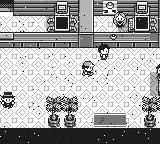main: (81, 61, 94, 76)
no-caminable: (0, 128, 160, 144), (127, 1, 159, 32), (45, 97, 78, 127), (47, 1, 78, 32), (14, 34, 78, 48), (78, 0, 93, 47), (141, 97, 159, 127), (14, 0, 45, 16), (94, 0, 126, 15), (125, 34, 159, 48), (94, 34, 110, 48), (0, 32, 13, 48)
npc: (1, 92, 16, 108), (113, 13, 127, 27), (98, 44, 110, 60), (156, 65, 160, 77)
puerta: (92, 113, 129, 127), (1, 0, 14, 16)
recuperarse: (110, 34, 125, 48)
